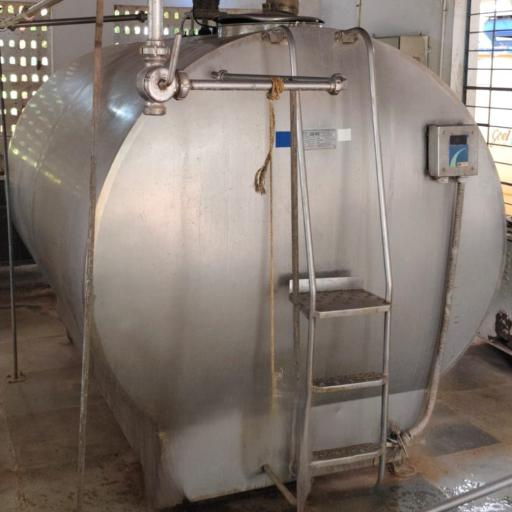silo: (4, 10, 506, 500)
